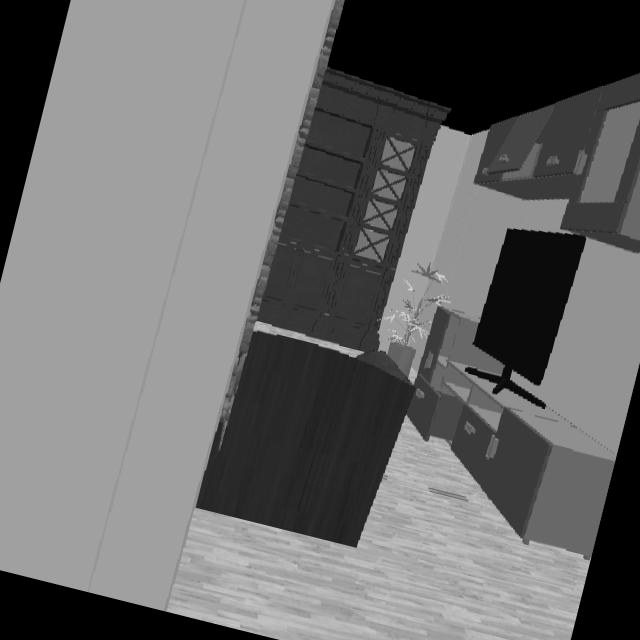bookshelf: (254, 67, 448, 354)
cabinet: (406, 306, 616, 555), (473, 72, 640, 243)
monitor: (465, 228, 586, 410)
sofa: (195, 332, 413, 549)
